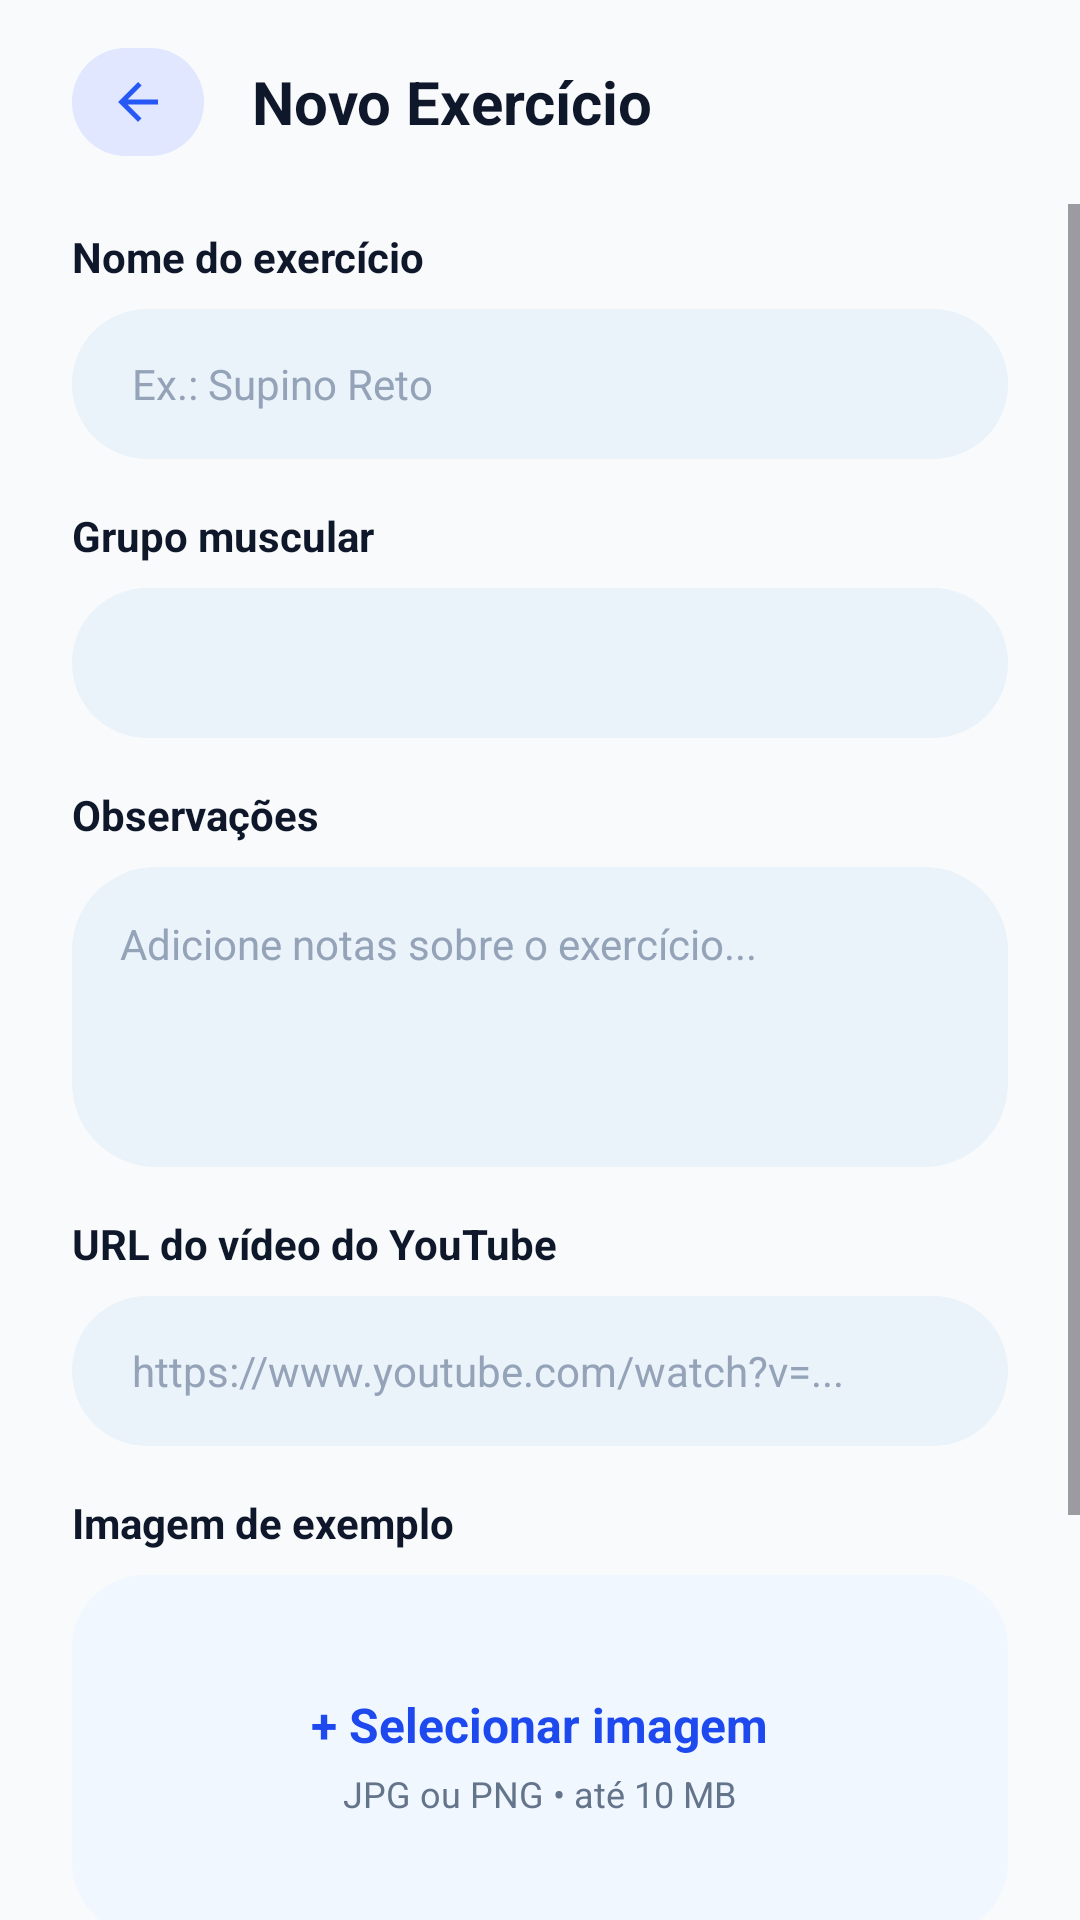

Where icons sit on this 1080w x 1920h app screen, as box=[x1, y1, x2, y2]:
Voltar: box=[118, 82, 158, 122]
